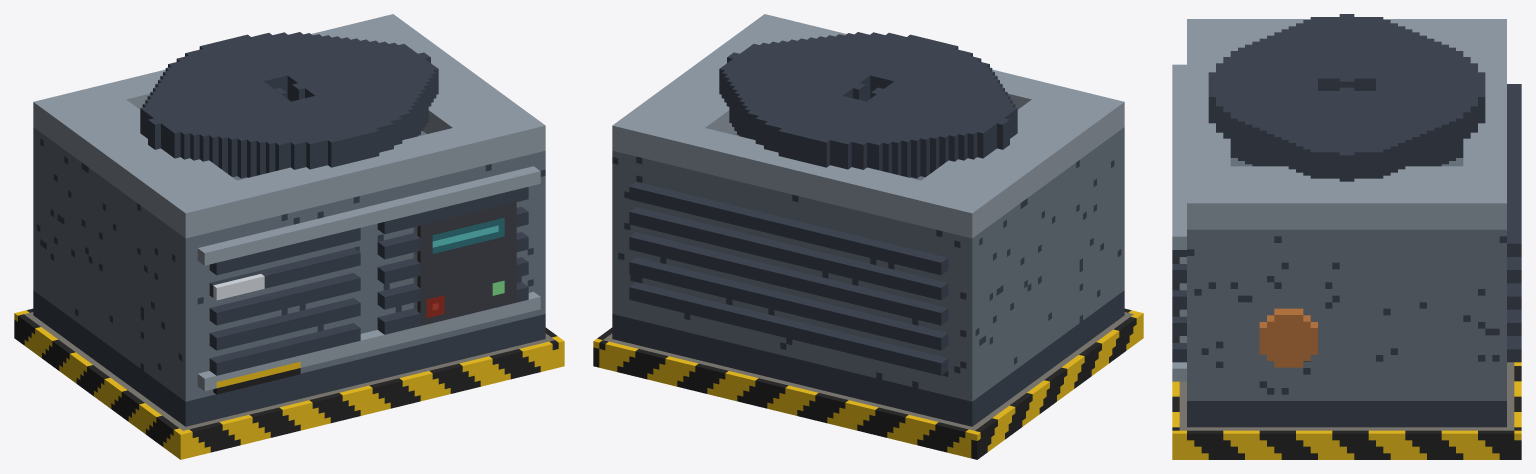
Rendered from cooling_chiller.obj.
3 renders of one model, left to right at view 1: azimuth 30°, elevation 25°; view 2: azimuth 150°, elevation 25°; view 3: azimuth 270°, elevation 25°, orthographic. The views are drawn at different scales.
Visible parts, largest first — view 1: cooling_chiller; view 2: cooling_chiller; view 3: cooling_chiller.
Boxes of the visible parts, <box> form: cooling_chiller: <box>14,14,564,459</box>; cooling_chiller: <box>593,14,1143,459</box>; cooling_chiller: <box>1172,14,1521,459</box>.
Bounding box in the file's own units: 2 × 1.31 × 1.5.
